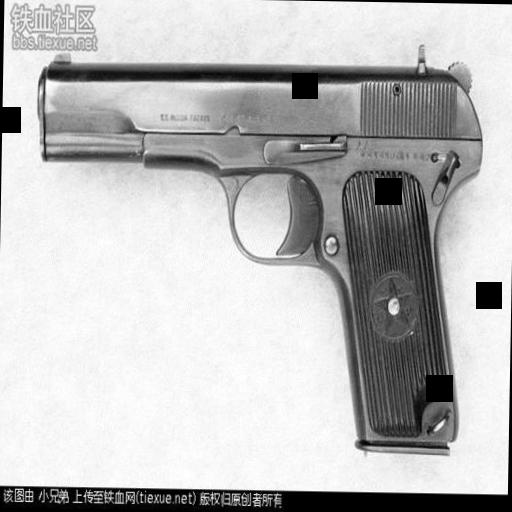Handgun: (30, 43, 482, 459)
